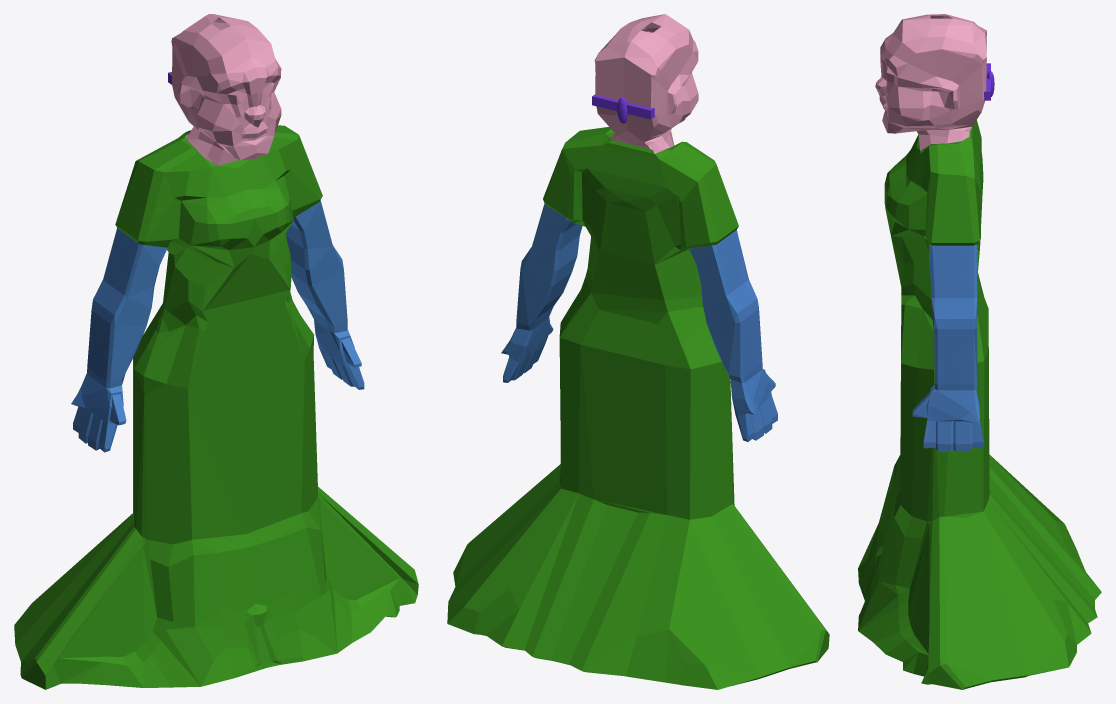
The picture shows the model from 3 angles, left to right: view 1: azimuth 30°, elevation 25°; view 2: azimuth 150°, elevation 25°; view 3: azimuth 270°, elevation 25°; orthographic projection. The views are drawn at different scales.
Parts seen in each view (by area): view 1: material, material.003, material.001; view 2: material, material.003, material.001, 立方体; view 3: material, material.001, material.003.
Boxes of the visible parts, x1,y1,x2,y2 form: material: [14, 125, 418, 689]; material.003: [71, 200, 364, 452]; material.001: [171, 14, 281, 165]; material: [447, 127, 829, 689]; material.003: [501, 203, 777, 441]; material.001: [594, 14, 698, 153]; 立方体: [592, 94, 654, 123]; material: [858, 120, 1101, 689]; material.001: [875, 14, 986, 150]; material.003: [912, 244, 984, 451].
Bounding box in the file's own units: 1.23 × 1.89 × 0.7156.
Materials: 4 (1 with a texture image).
